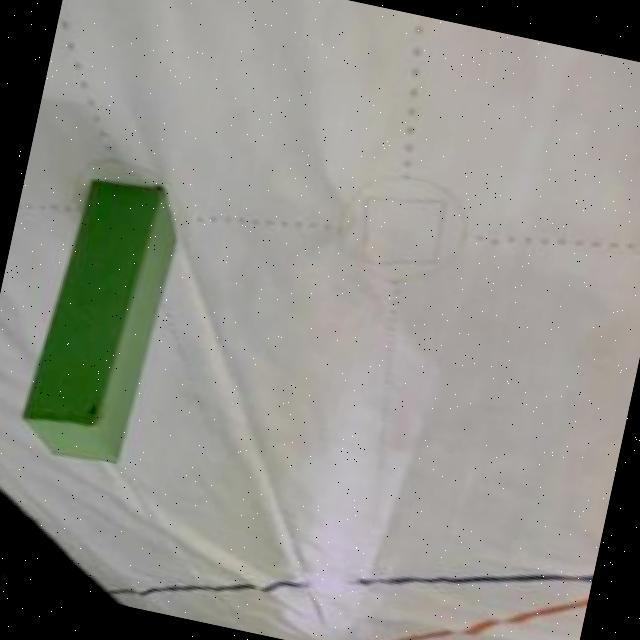greenbox: (9, 163, 188, 475)
